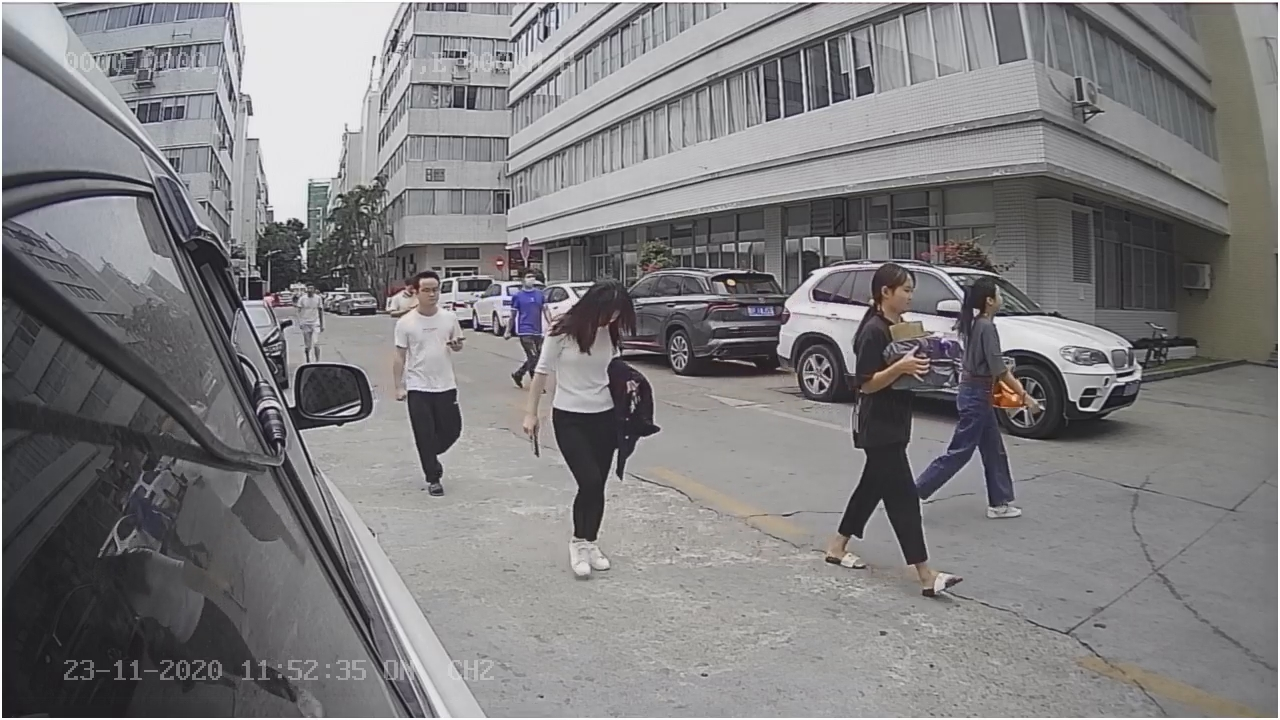person: (523, 277, 631, 579), (394, 265, 460, 493)
